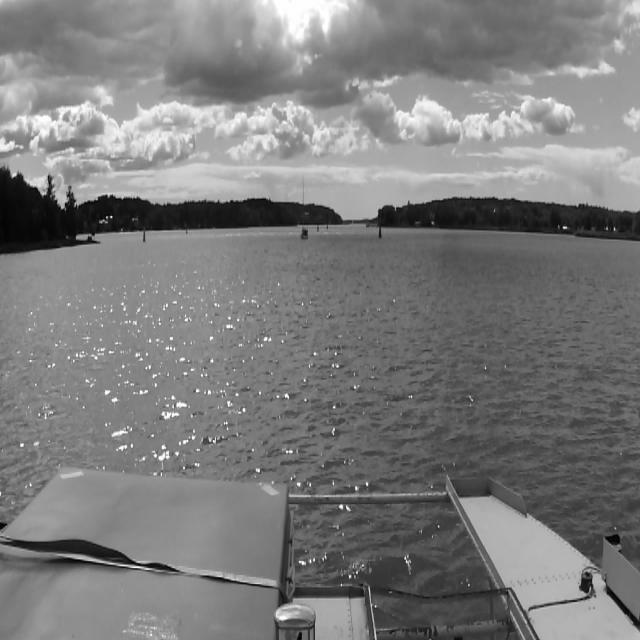buoy: (377, 218, 383, 242), (142, 222, 148, 245), (316, 220, 320, 233), (325, 219, 329, 231), (185, 222, 188, 236)
ship: (299, 173, 309, 242)
